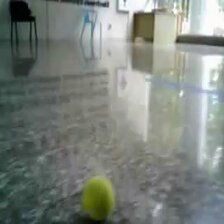tennis: (78, 174, 116, 217)
